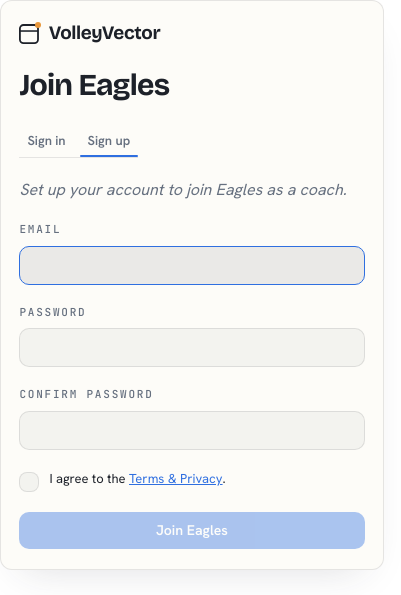
Test: InviteAccept, signed out › switching to the sign-in side asks the existing account to sign in
Click the tab "Sign in": (46,143) [19,128,74,157]
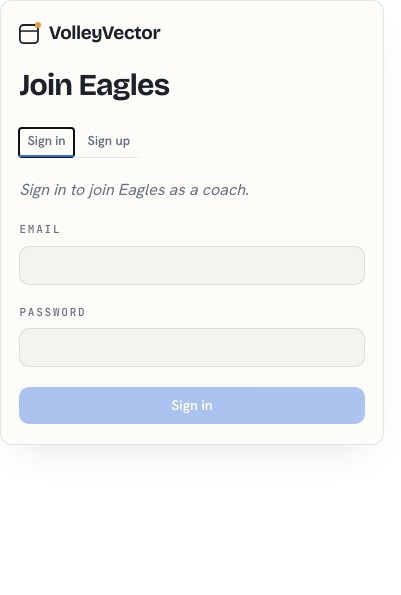
Now the text "Sign in to join Eagles as a coach." is shown, box [19,179,249,200]
Now the button "Sign in" is shown, box [19,387,365,424]
